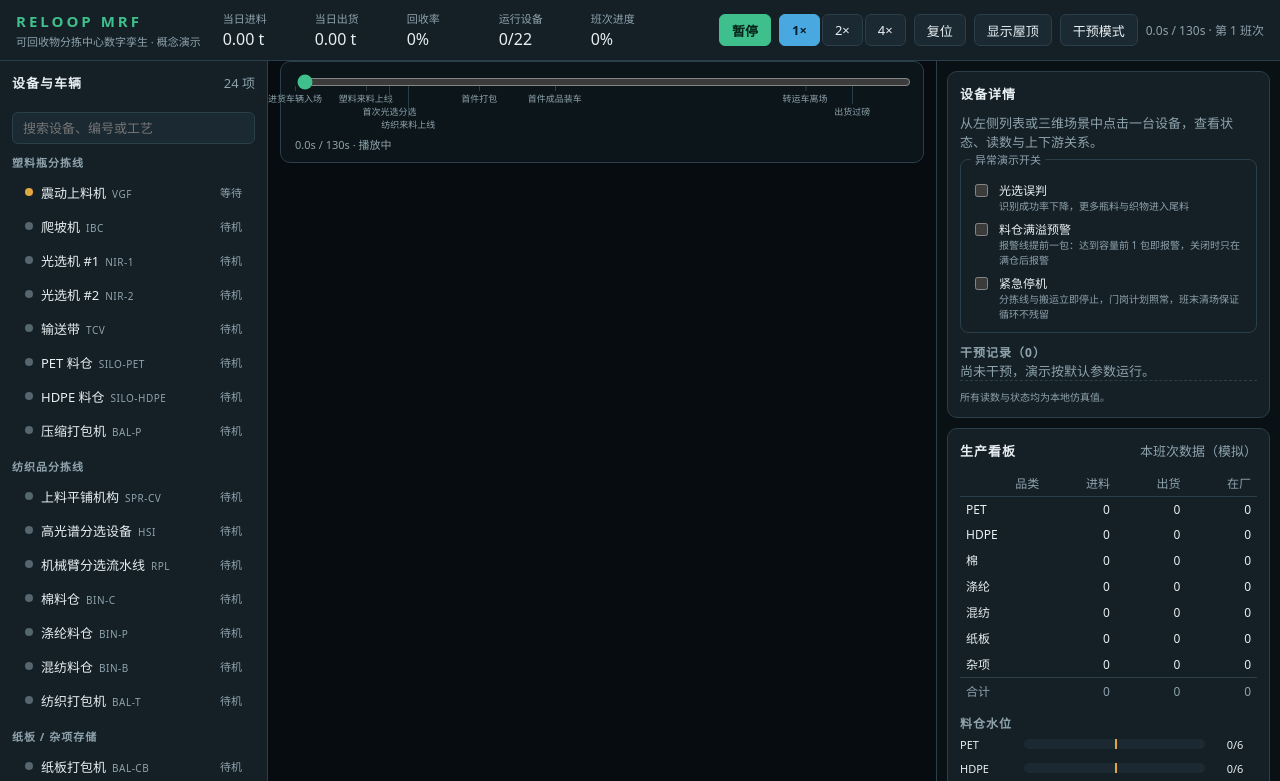
Test: 整机联动 › 拖动时间轴改变现场时刻，看板与时间轴同步
The image size is (1280, 781).
Click the button "暂停" at (745, 30), box [719,14,771,46]
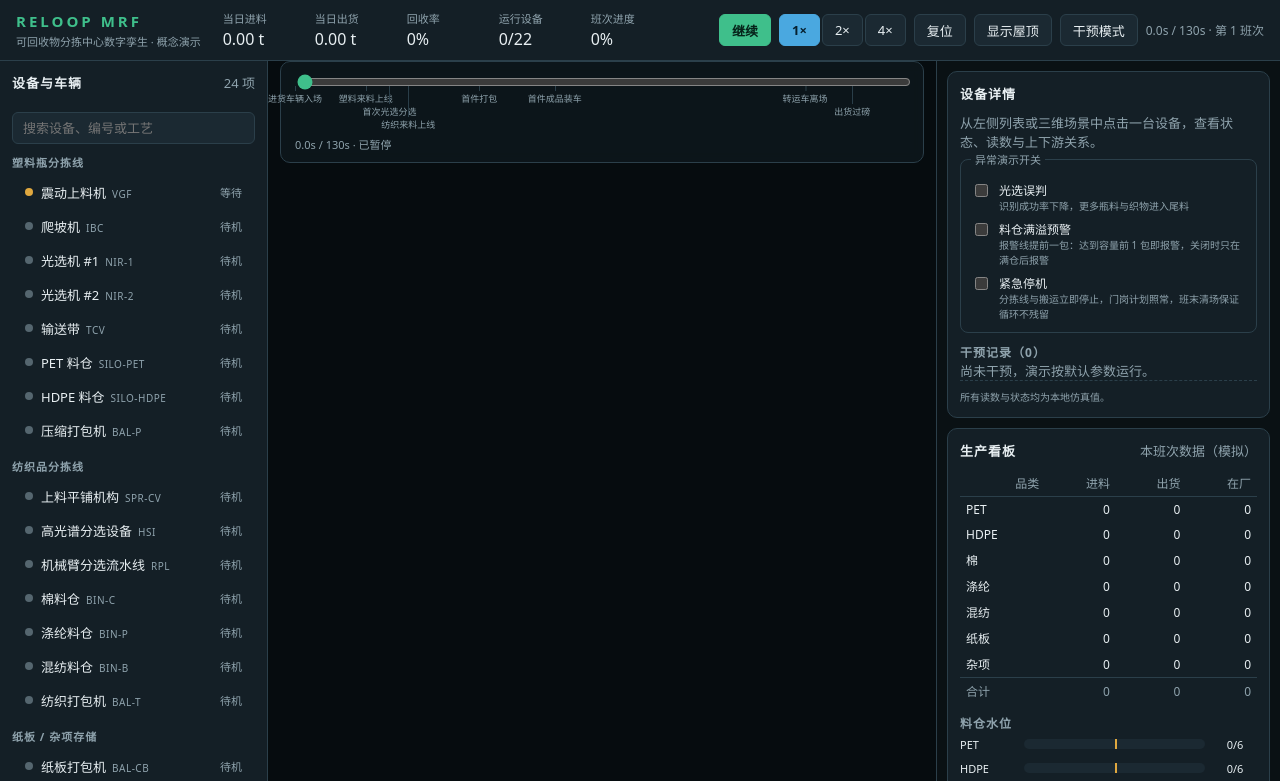
Set the slider named "拖动查看" to "80" at (673, 82), box [297,74,911,90]
(page scrolled)
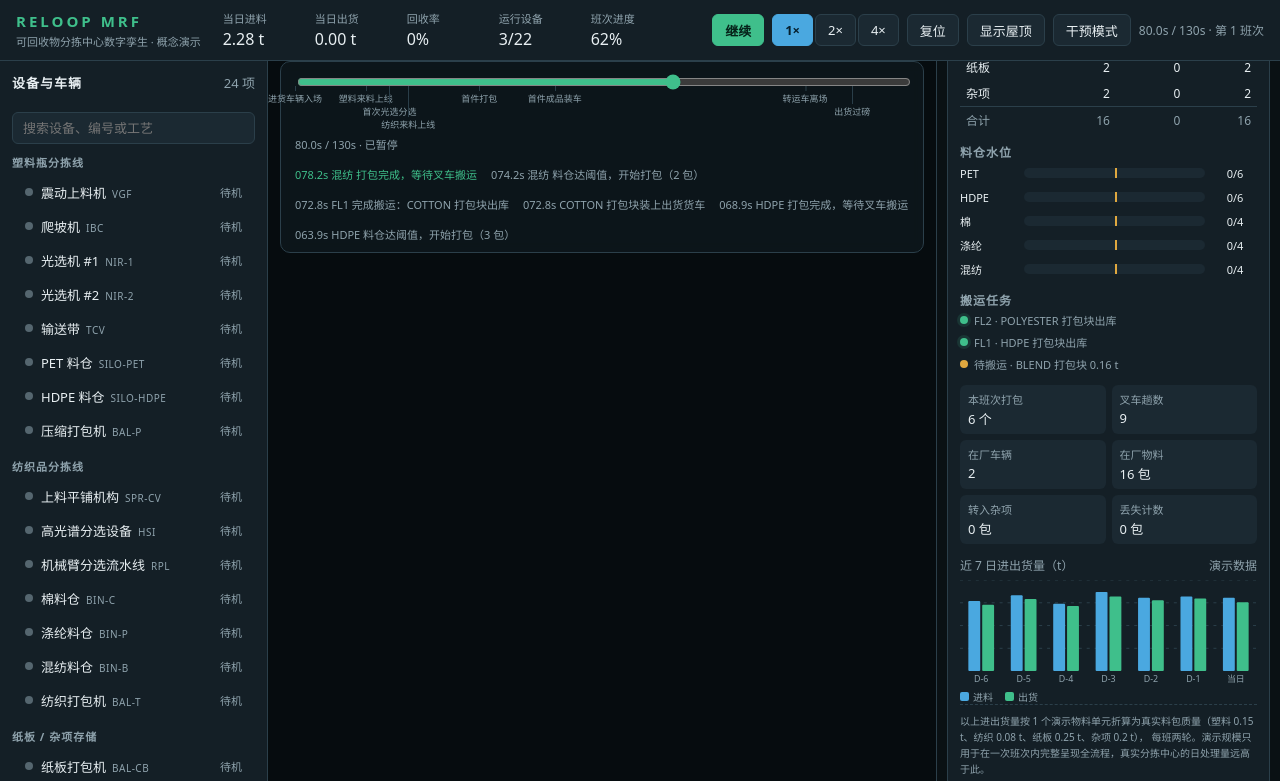
Result: the text "80.0s / 130s · 第 1 班次" is shown at [1139,21,1264,39]
Result: the text "在厂物料" is shown at [1120,447,1164,462]
